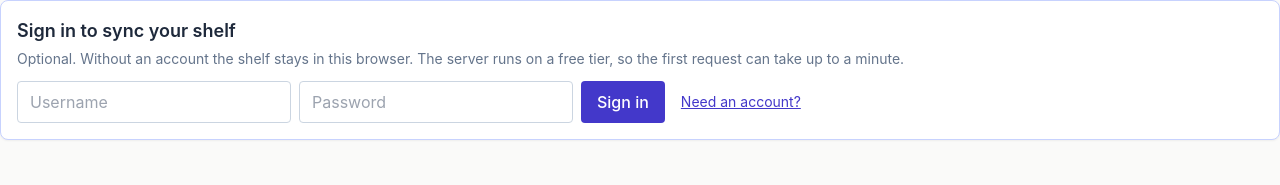
Test: shows the error and does not sign in when registration fails
This screenshot has width=1280, height=185.
Click the button "Need an account?": [741, 102] box [673,81,809,123]
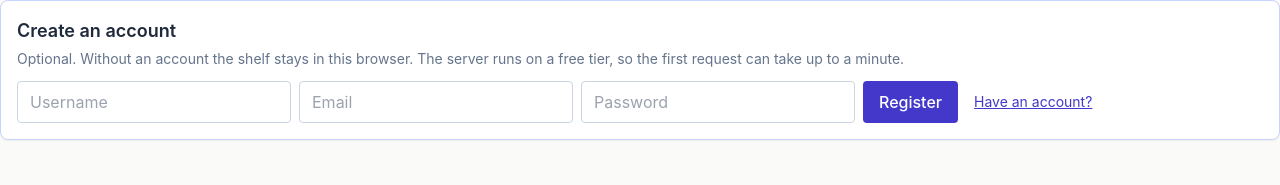
In the field labelled "Username": [154, 102] box [17,81,291,123], type "ada"
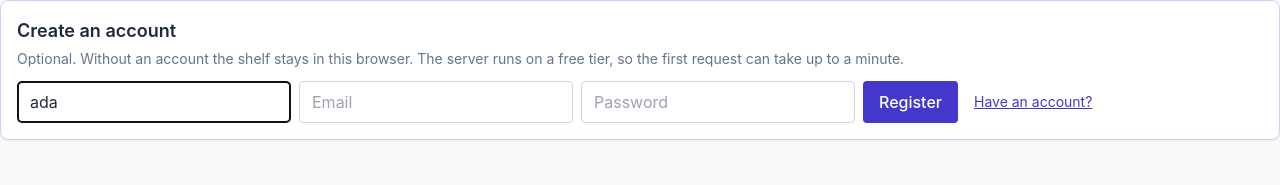
In the field labelled "Email": [436, 102] box [299,81,573,123], type "ada@example.com"
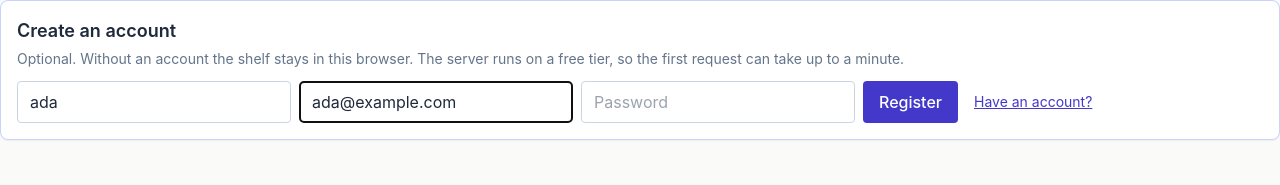
In the password field labelled "Password": [718, 102] box [581,81,855,123], type "longenough1"
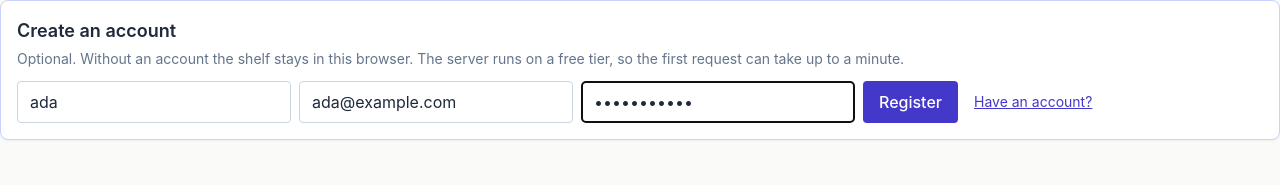
Submit the form named "create account"
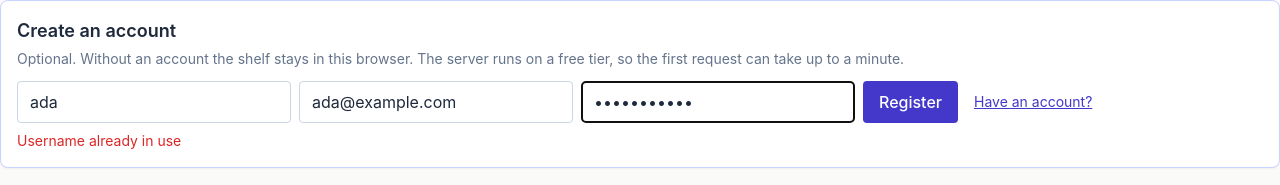
Expected: the message reads "Username already in use", [17,132,181,149]
